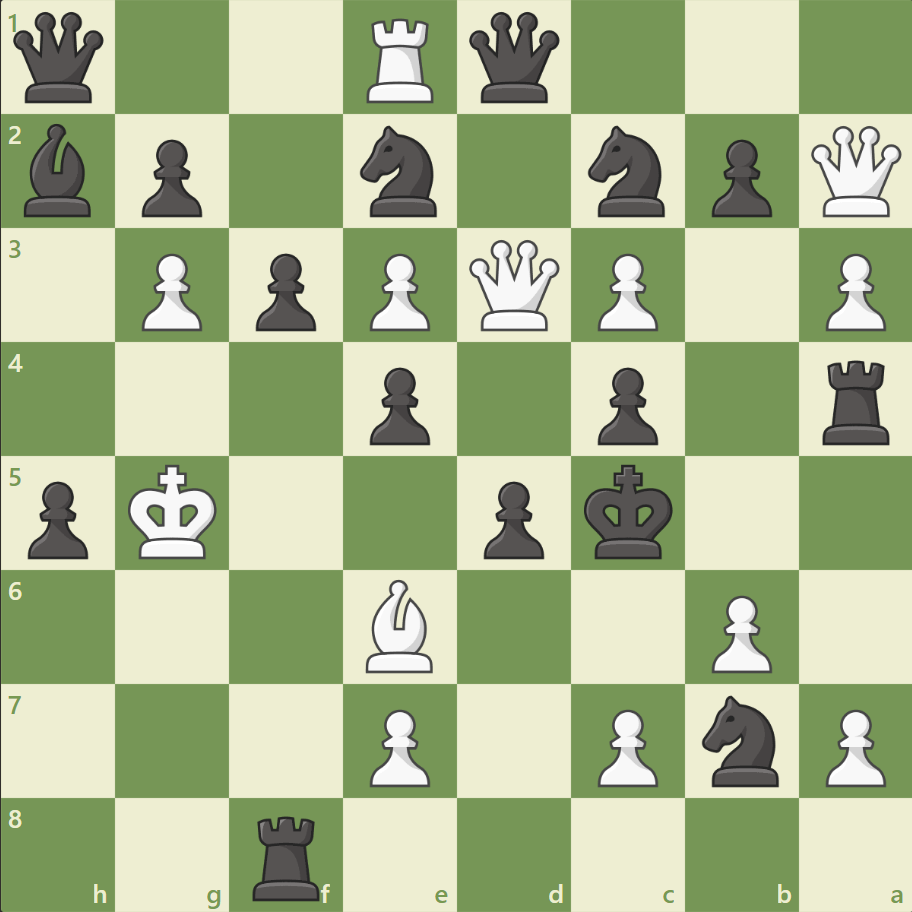B: (358, 574, 442, 676)
K: (124, 458, 224, 566)
P: (701, 586, 776, 677), (133, 246, 208, 337), (815, 700, 889, 791), (588, 700, 662, 791), (361, 700, 435, 791), (815, 246, 889, 337), (588, 246, 662, 337), (361, 246, 435, 337)
Q: (805, 122, 904, 222), (464, 236, 563, 335)
R: (360, 12, 442, 109)
b: (17, 120, 101, 222)
k: (579, 458, 679, 566)
n: (351, 121, 449, 223), (692, 688, 789, 791), (579, 121, 676, 223)
p: (474, 473, 549, 564), (20, 473, 95, 564), (247, 246, 322, 337), (701, 132, 776, 223), (133, 132, 208, 223), (588, 359, 662, 450), (361, 359, 435, 450)
q: (464, 9, 563, 108), (10, 9, 109, 108)
r: (246, 806, 329, 904), (814, 352, 897, 449)
